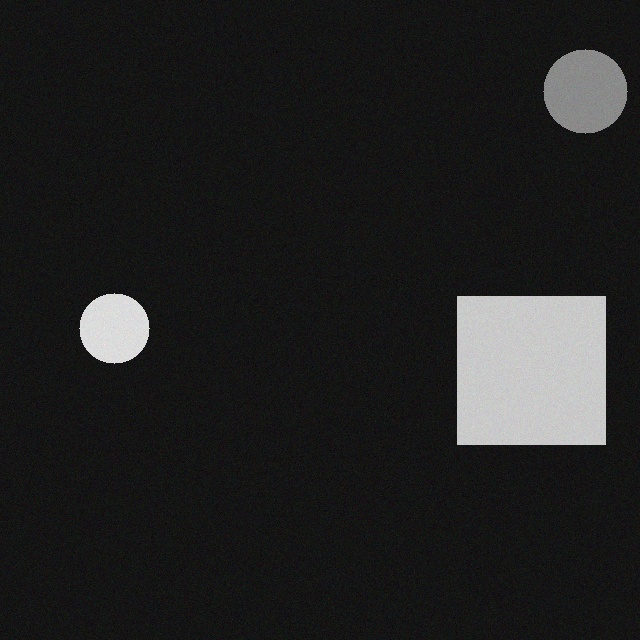circle: (540, 43, 624, 127), (76, 287, 146, 357)
square: (454, 290, 602, 438)
